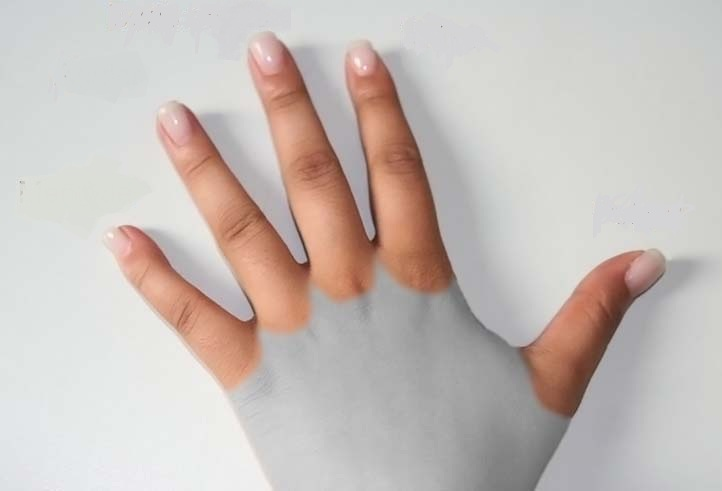finger: (150, 77, 295, 300), (243, 35, 366, 251), (337, 35, 445, 240), (95, 219, 237, 370)
